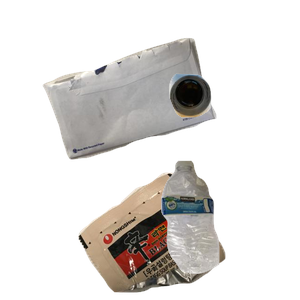glass: (166, 71, 300, 181)
paper: (40, 35, 249, 187)
plastic: (159, 158, 300, 300)
trash: (76, 170, 300, 300)
